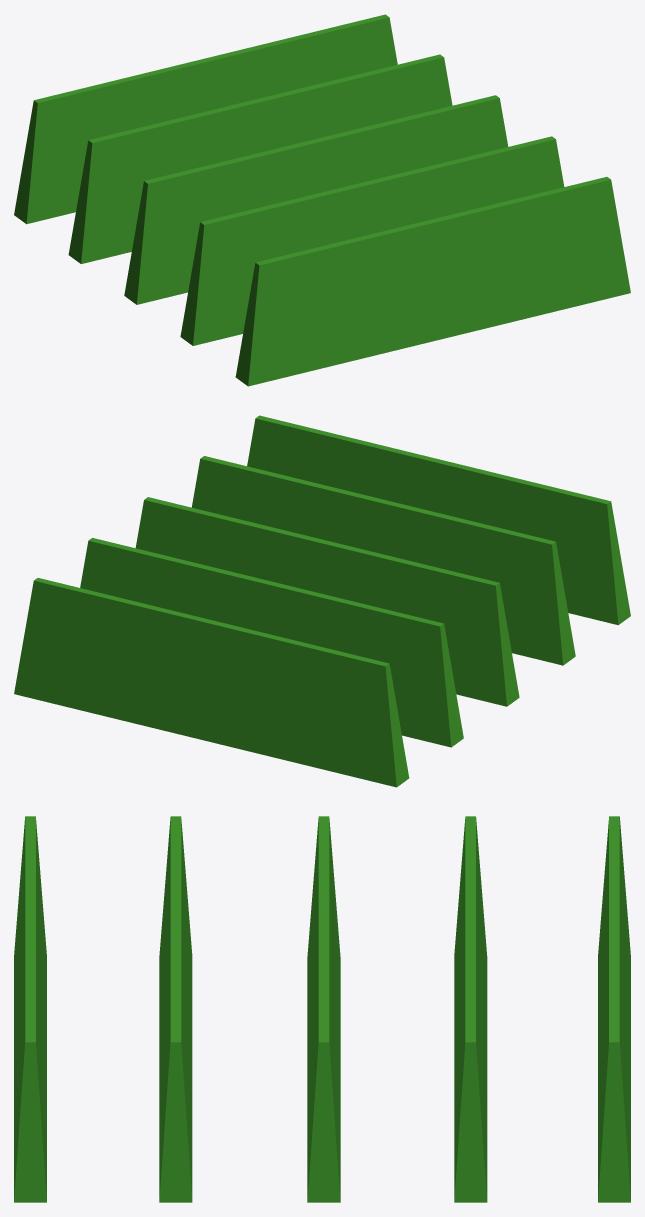
File: farm_plants_2_green_mat.fbx
The picture shows the model from 3 angles, top to bottom: view 1: azimuth 30°, elevation 25°; view 2: azimuth 150°, elevation 25°; view 3: azimuth 270°, elevation 25°; orthographic projection. The views are drawn at different scales.
Visible parts, largest first — view 1: farm_plants_2_green_mat; view 2: farm_plants_2_green_mat; view 3: farm_plants_2_green_mat.
Part boxes in pixels (bbox=[...]): farm_plants_2_green_mat: bbox=[14, 14, 630, 386]; farm_plants_2_green_mat: bbox=[14, 415, 630, 787]; farm_plants_2_green_mat: bbox=[14, 816, 630, 1202].
Size of the model in its own units: 186 by 52.92 by 197.
